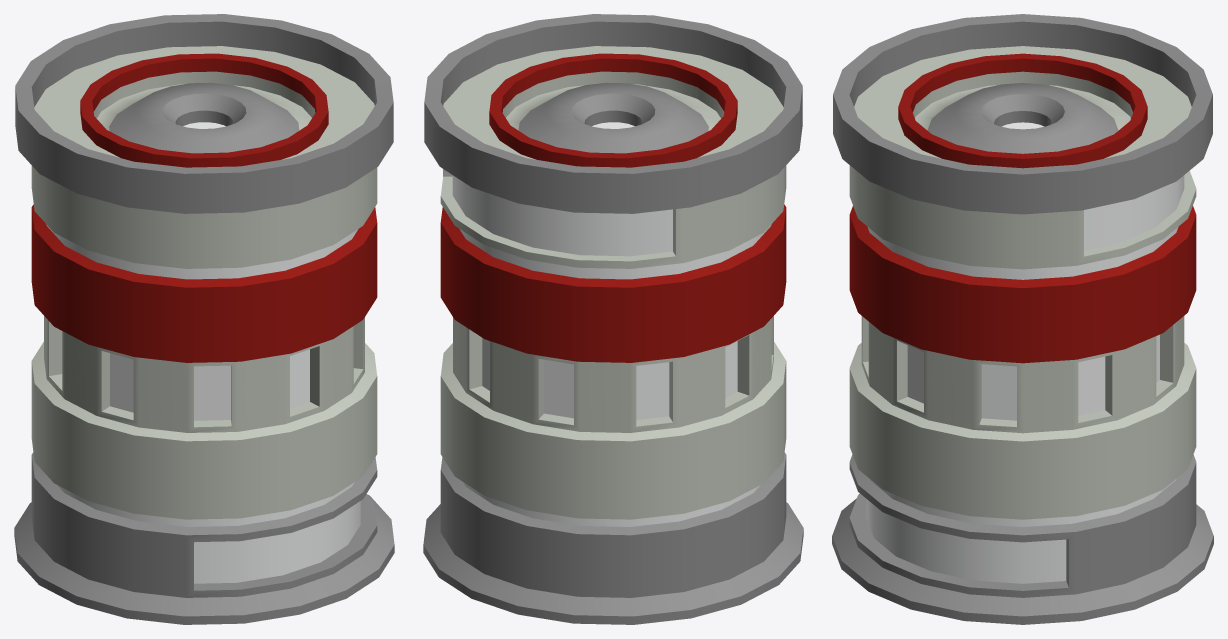
File: SM_barrel_red.fbx
The picture shows the model from 3 angles, left to right: view 1: azimuth 30°, elevation 25°; view 2: azimuth 150°, elevation 25°; view 3: azimuth 270°, elevation 25°; orthographic projection.
Visible parts, largest first — view 1: pCylinder22; view 2: pCylinder22; view 3: pCylinder22.
Part boxes in pixels (x1=…): pCylinder22: x1=14, y1=14, x2=394, y2=624; pCylinder22: x1=423, y1=14, x2=803, y2=624; pCylinder22: x1=832, y1=14, x2=1213, y2=624.
Bounding box in the file's own units: 123 × 160 × 123.
